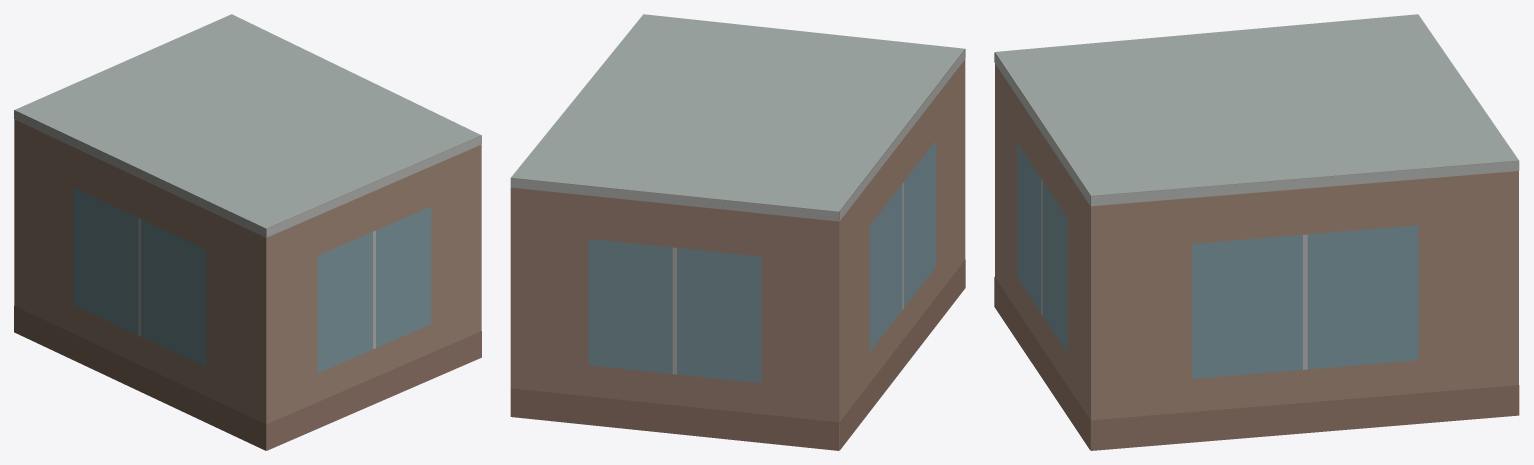
File: survey-upis-32624713.glb
3 renders of one model, left to right at view 1: azimuth 30°, elevation 25°; view 2: azimuth 150°, elevation 25°; view 3: azimuth 270°, elevation 25°, orthographic. The views are drawn at different scales.
Visible parts, largest first — view 1: survey-upis-32624713.tmp; view 2: survey-upis-32624713.tmp; view 3: survey-upis-32624713.tmp.
Part boxes in pixels (x1,y1,x2,y2): survey-upis-32624713.tmp: (14,14,481,450); survey-upis-32624713.tmp: (510,14,965,450); survey-upis-32624713.tmp: (994,14,1519,450).
Bounding box in the file's own units: 4.68 × 3.05 × 5.7.
